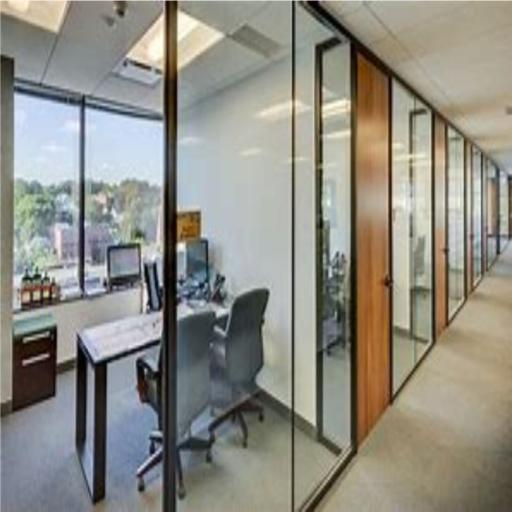bus: (209, 289, 269, 446)
elevator: (170, 0, 360, 511), (392, 82, 433, 392), (447, 127, 465, 317)
stroller: (76, 312, 161, 502)
